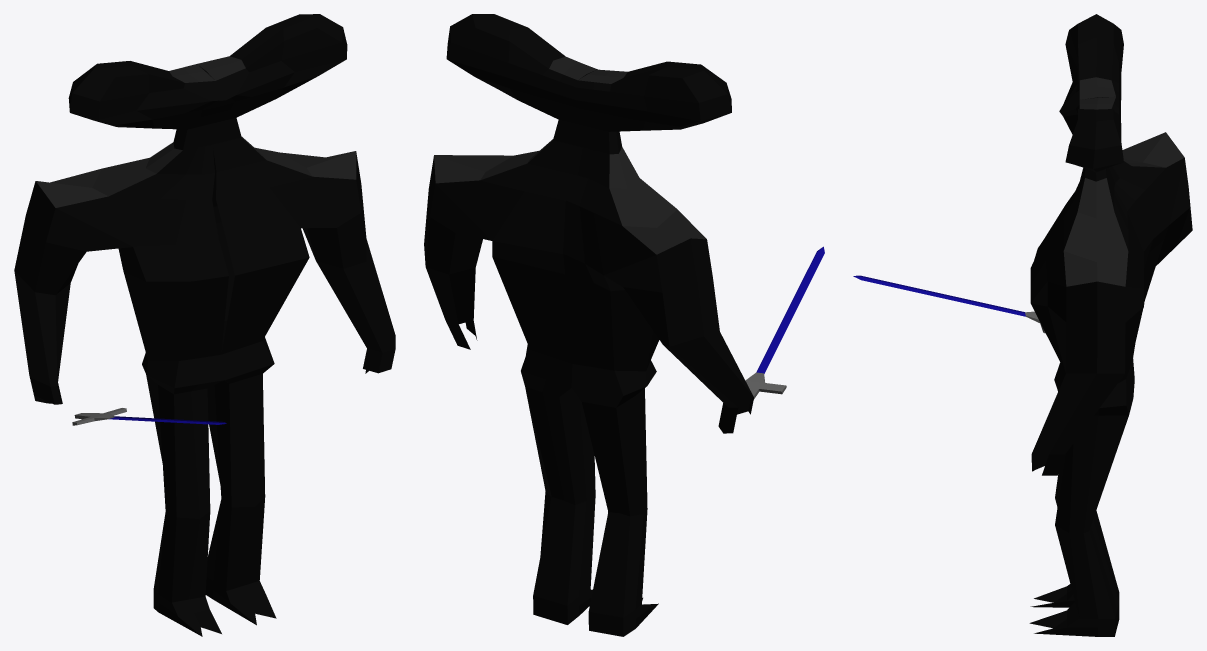
The model's file is SwordsMana1.obj.
3 views of the same model, side by side, from view 1: azimuth 30°, elevation 25°; view 2: azimuth 150°, elevation 25°; view 3: azimuth 270°, elevation 25° (orthographic). The views are drawn at different scales.
Visible parts, largest first — view 1: Cube, Plane; view 2: Cube, Plane; view 3: Cube, Plane.
Part boxes in pixels (left/top/right/bottom): Cube: left=14, top=14, right=395, bottom=636; Plane: left=72, top=408, right=226, bottom=425; Cube: left=424, top=14, right=753, bottom=636; Plane: left=745, top=246, right=824, bottom=399; Cube: left=1029, top=14, right=1192, bottom=636; Plane: left=853, top=275, right=1045, bottom=333.
Bounding box in the file's own units: 11.58 × 18.67 × 10.47.
